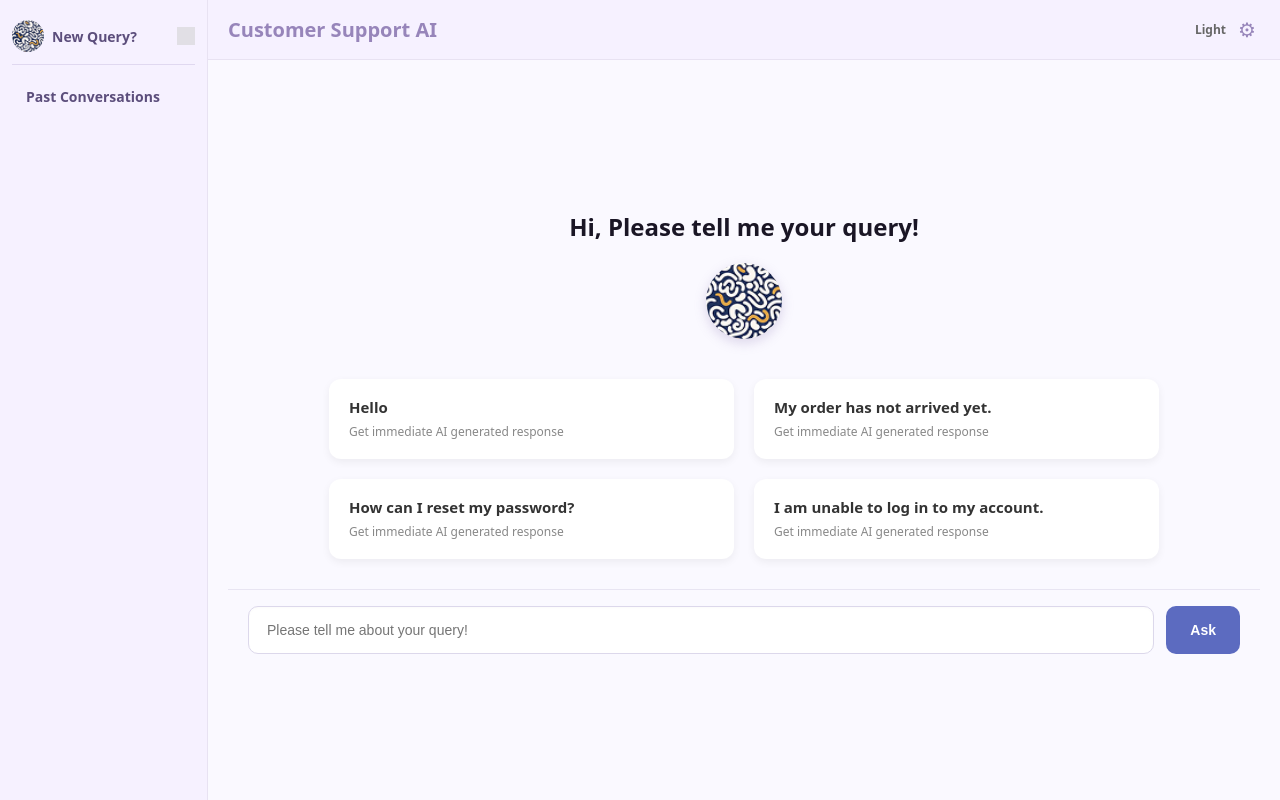
Customer Support AI - Full Test Suite › should submit "Hello" and show correct bot response
Type "Hello" into the field with placeholder "Please tell me about your query!" at (701, 630), box [248,606,1154,654]
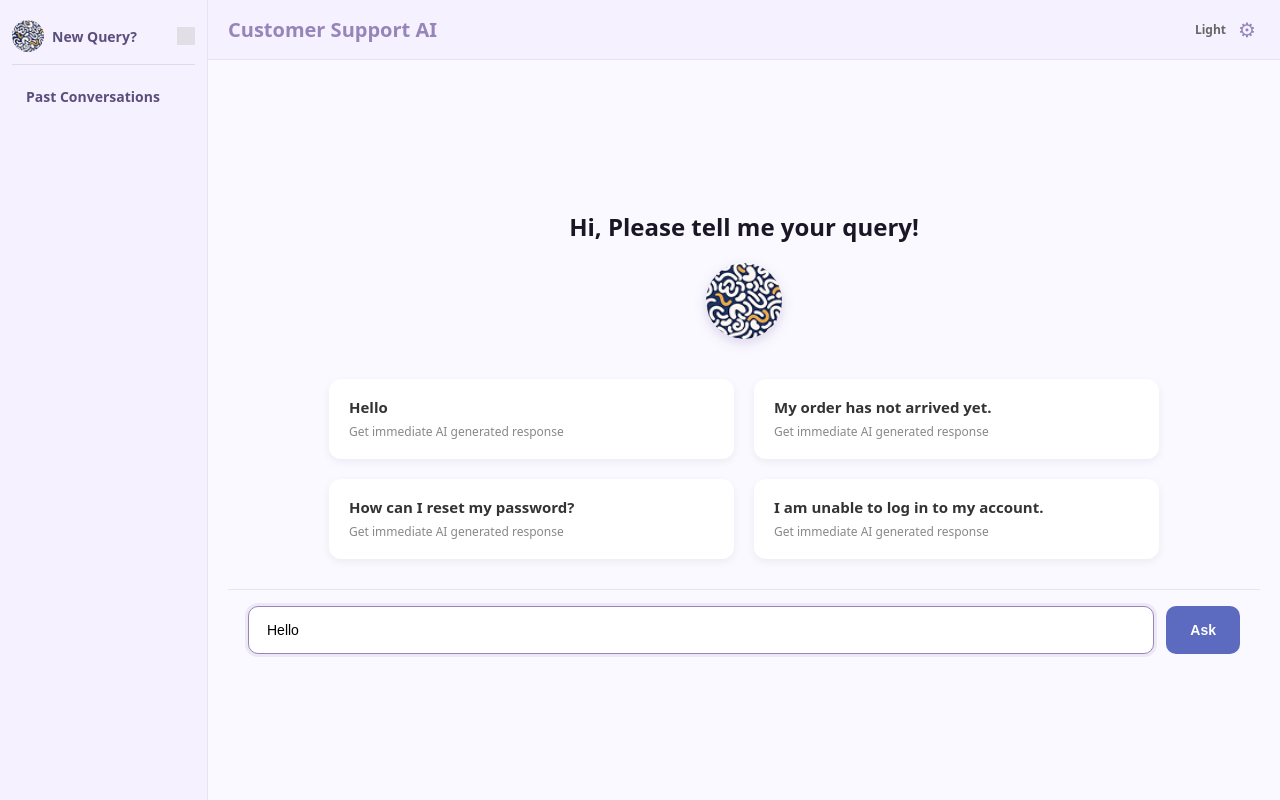
Click the submit button at (1203, 630), box [1166,606,1240,654]
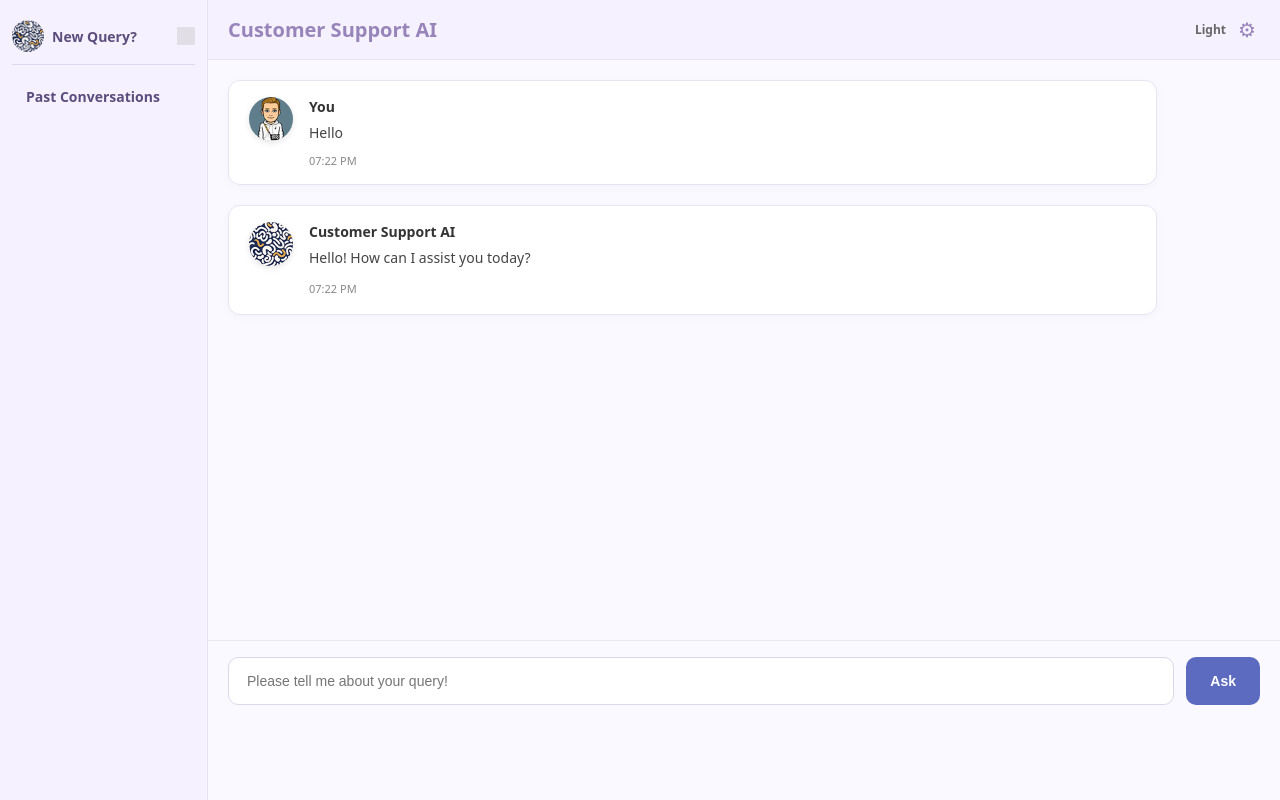
Check: the text "Hello! How can I assist you today?" is shown, box [309,248,530,267]
